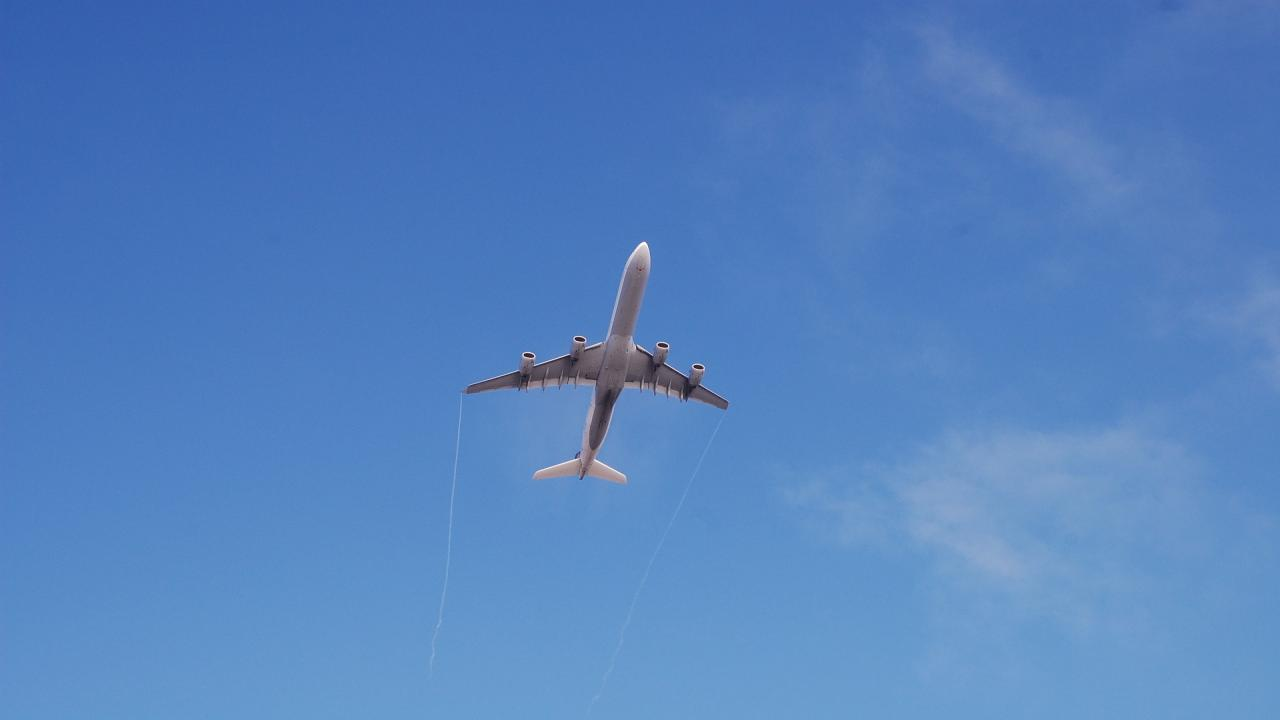Airplane: (459, 232, 738, 490)
